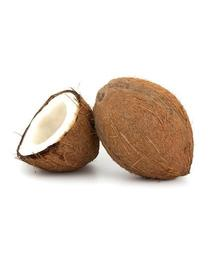coconut: (92, 76, 197, 177), (15, 92, 101, 174)
